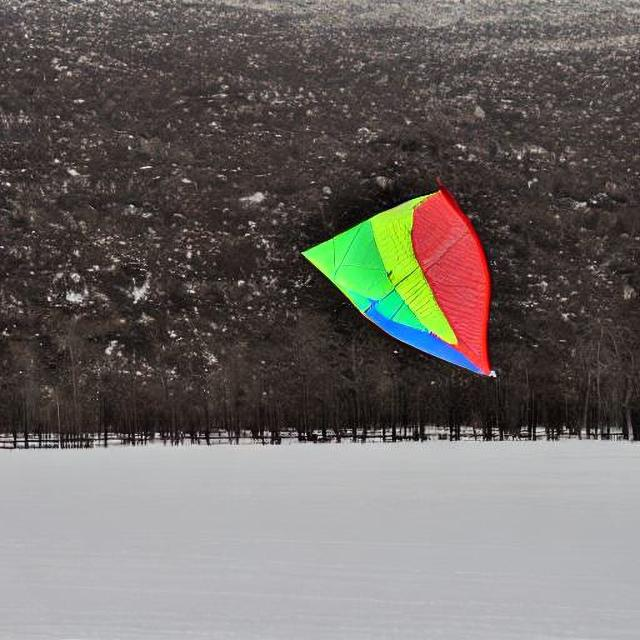floating object: (306, 182, 489, 372)
